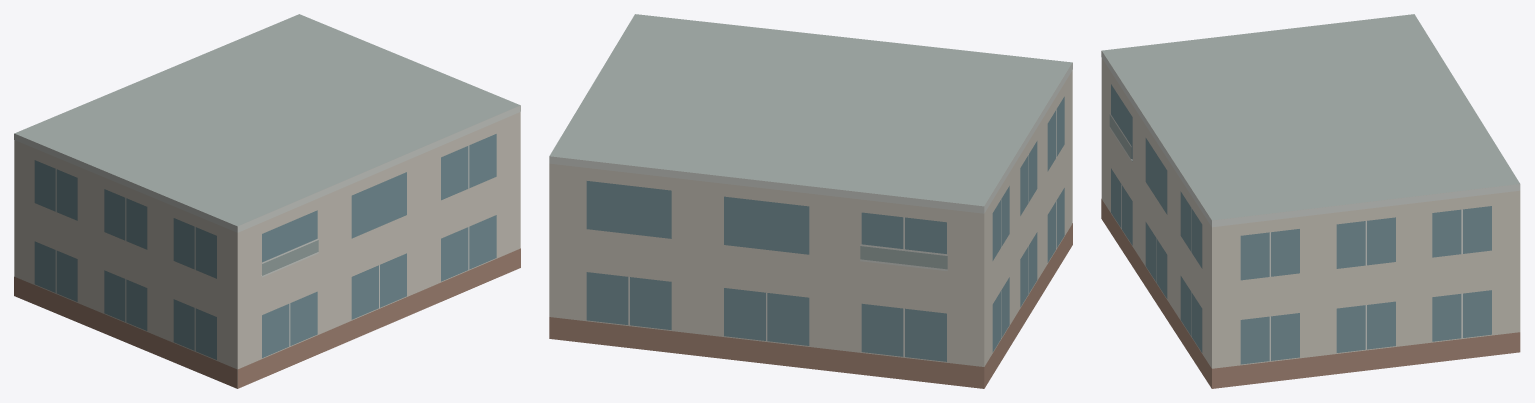
The model's file is survey-upis-32721768.glb.
3 renders of one model, left to right at view 1: azimuth 30°, elevation 25°; view 2: azimuth 150°, elevation 25°; view 3: azimuth 270°, elevation 25°, orthographic. The views are drawn at different scales.
Parts seen in each view (by area): view 1: survey-upis-32721768.tmp; view 2: survey-upis-32721768.tmp; view 3: survey-upis-32721768.tmp.
Part boxes in pixels (left/top/right/bottom): survey-upis-32721768.tmp: left=14, top=14, right=520, bottom=388; survey-upis-32721768.tmp: left=549, top=14, right=1072, bottom=388; survey-upis-32721768.tmp: left=1101, top=14, right=1520, bottom=388.
Size of the model in its own units: 16.07 by 6.1 by 13.77.
